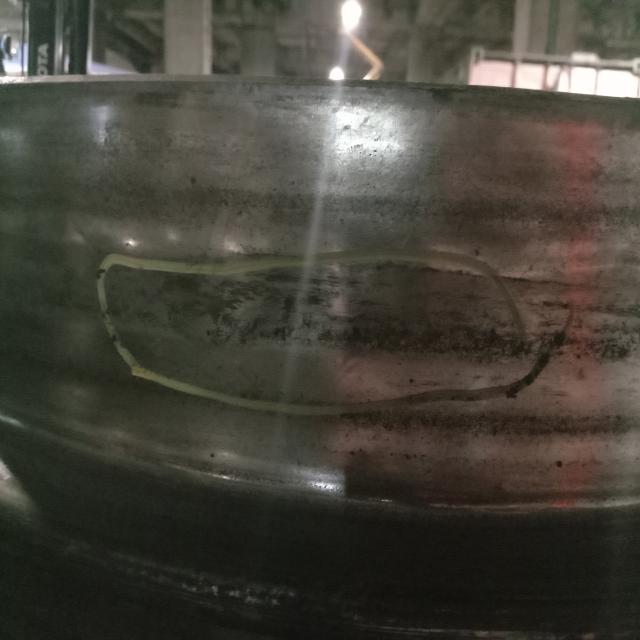Contact_Fatigue_Cracks: (338, 304, 533, 365)
